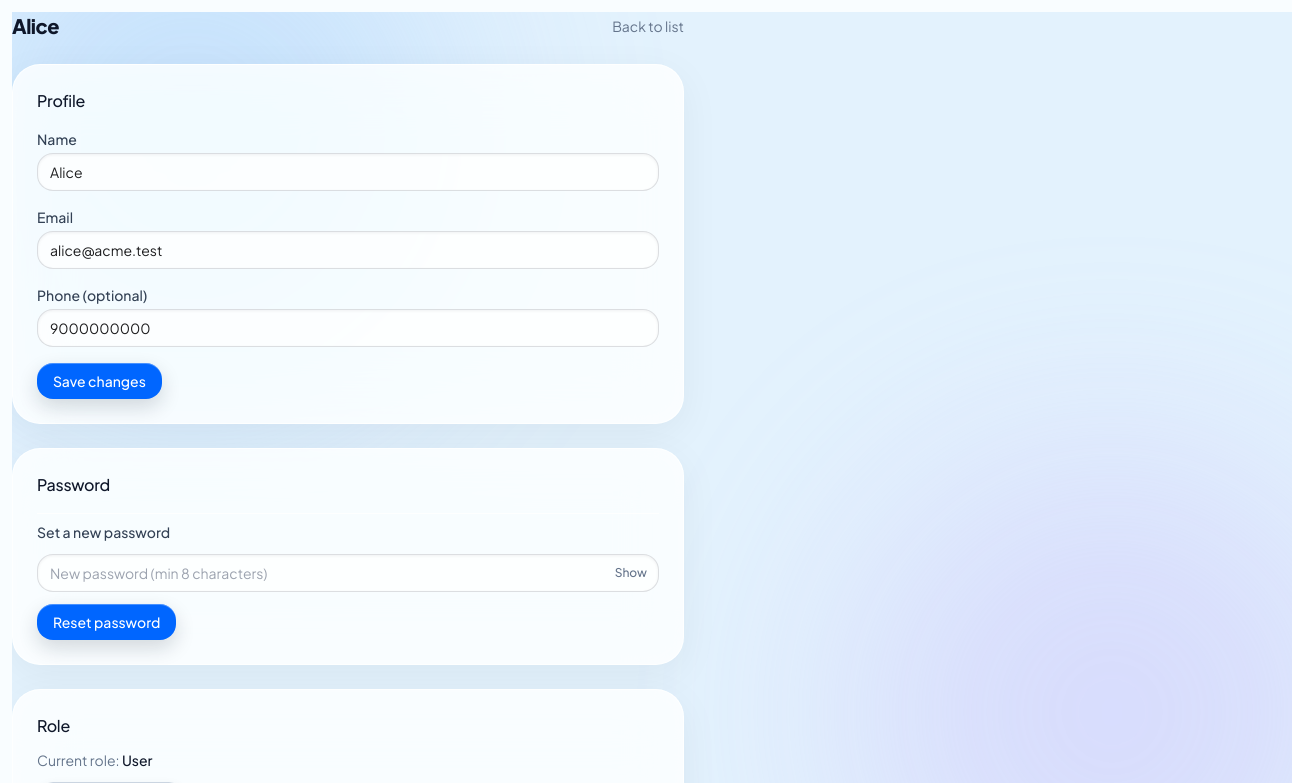
Test: EditUserPage - Super Admin/Admin can reset an existing user's password › submits the admin-chosen password to the real reset endpoint and shows it once on success
Expected: the heading "Alice" is shown, [12, 12, 59, 40]
Type "MyNewPass1" into the password field labelled "New password" at (348, 573), box [37, 554, 659, 592]
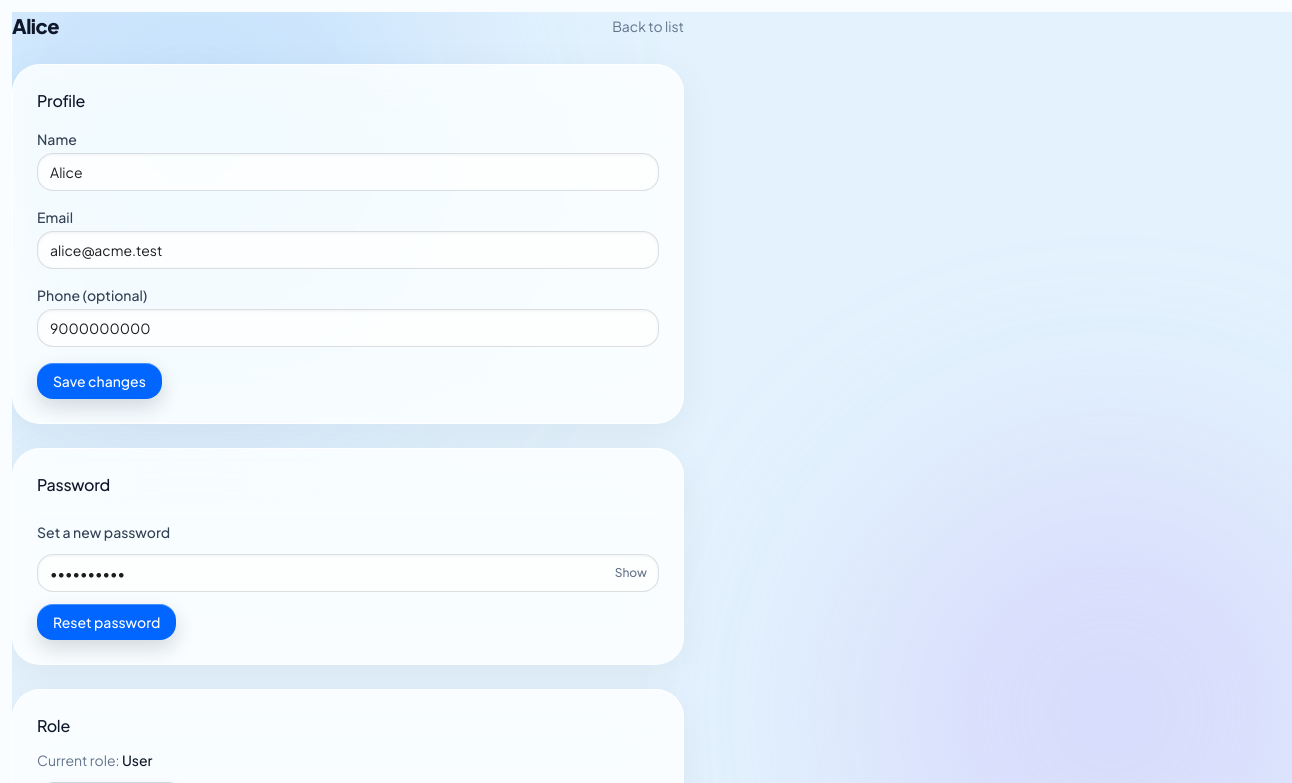
Click the button "Reset password" at (107, 622), box [37, 604, 176, 640]
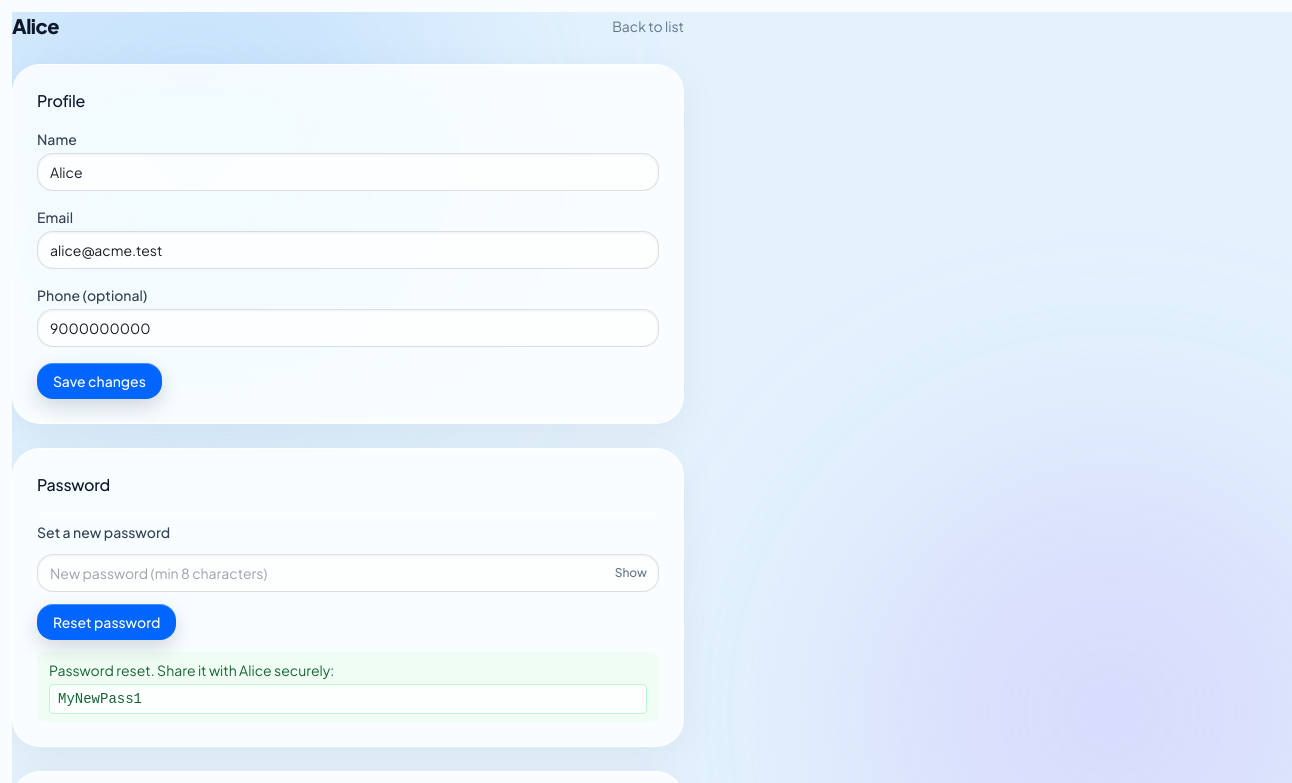
Expected: the text "MyNewPass1" is shown, [49, 684, 647, 714]
